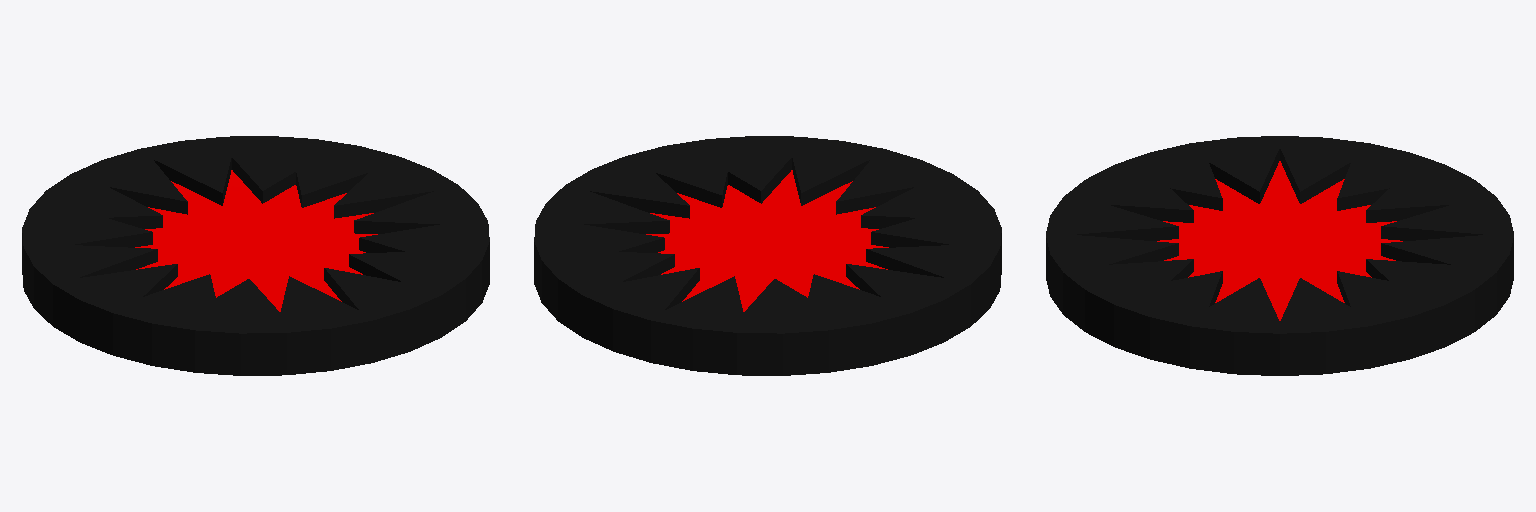
The picture shows the model from 3 angles: view 1: azimuth 30°, elevation 25°; view 2: azimuth 150°, elevation 25°; view 3: azimuth 270°, elevation 25°; orthographic projection.
Visible parts, largest first — view 1: Cylinder; view 2: Cylinder; view 3: Cylinder.
Boxes of the visible parts, x1,y1,x2,y2 form: Cylinder: [22, 136, 489, 375]; Cylinder: [534, 136, 1001, 375]; Cylinder: [1046, 136, 1513, 375].
Bounding box in the file's own units: 1 × 0.1 × 1.
1 materials, 1 textured.